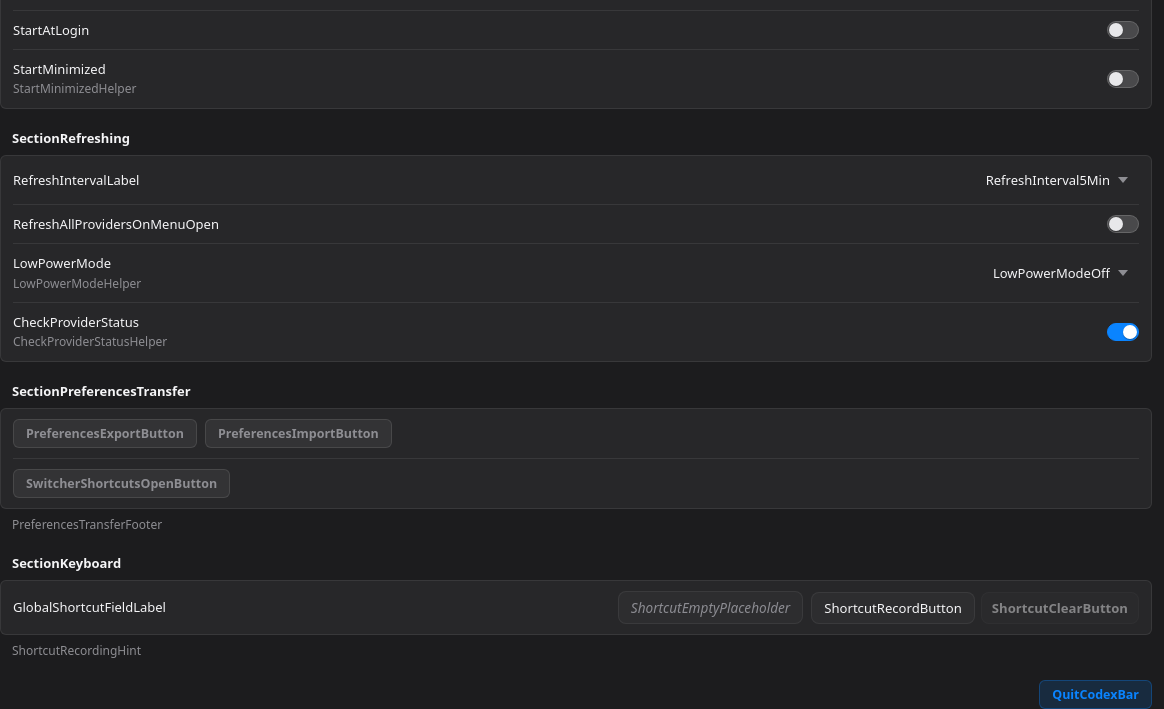
it: GeneralTab Mac grouped layout › shows the register error and does not save a shortcut that failed to register
The image size is (1164, 709).
(page scrolled)
Click the button "ShortcutRecordButton".
click(893, 608)  # box [811,592,975,624]
(page scrolled)
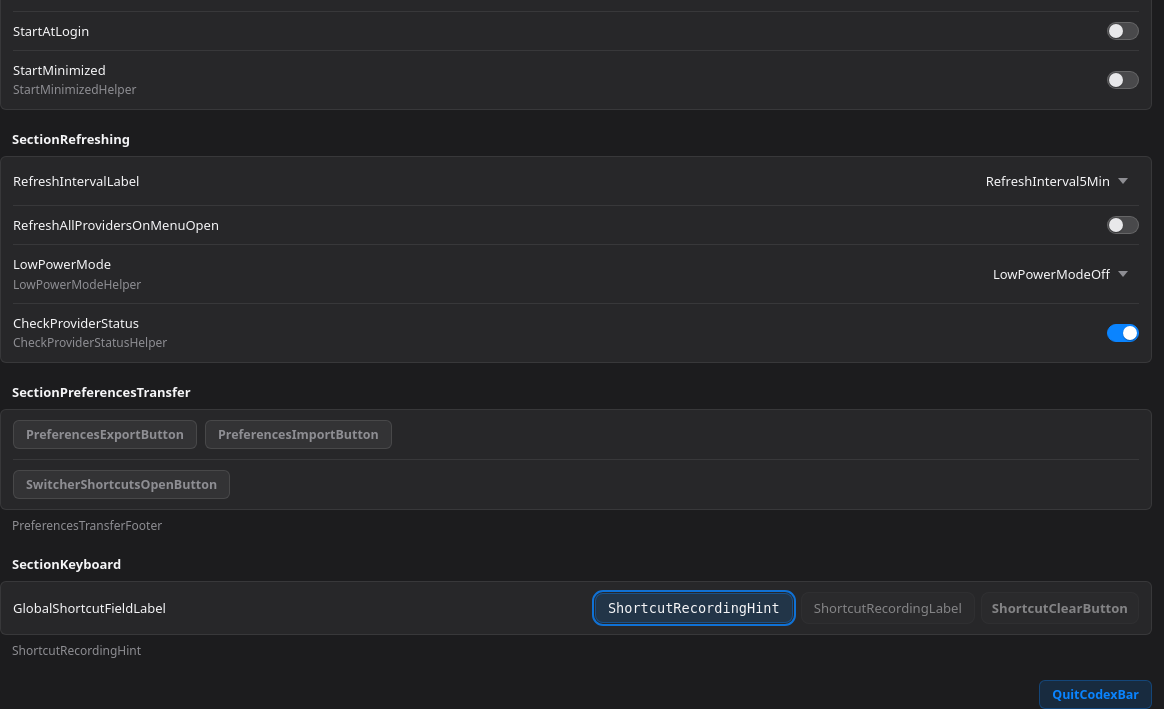
Press k
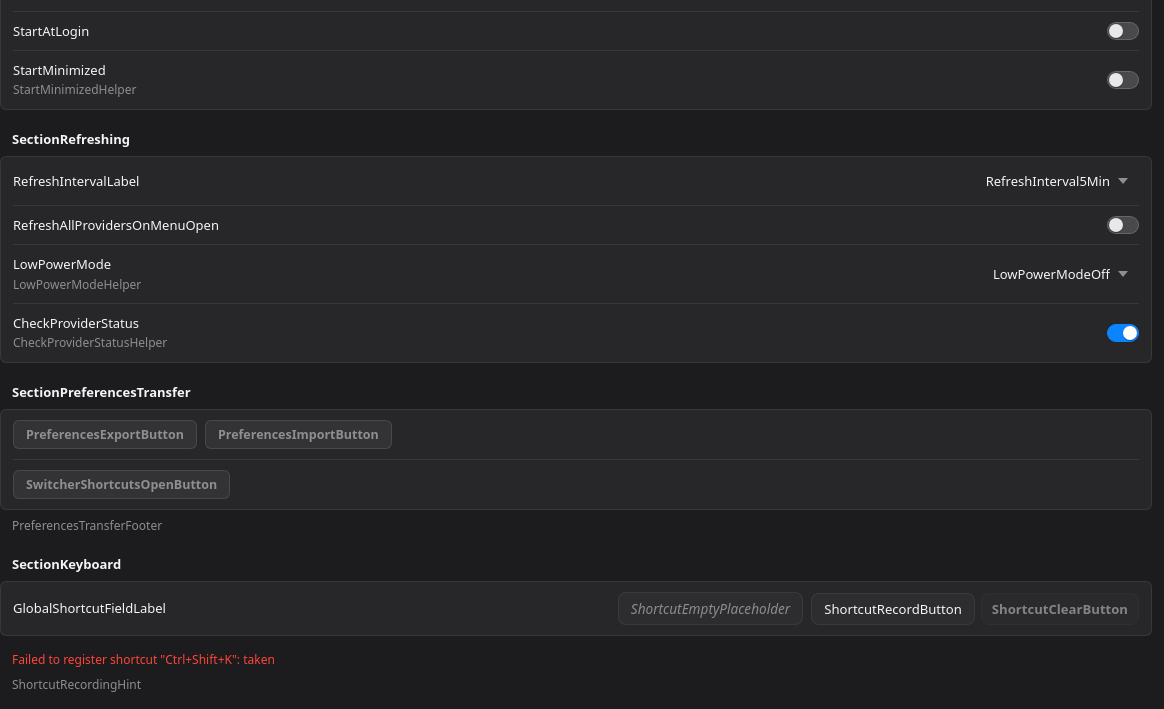
Result: the message "Failed to register shortcut \"Ctrl+Shift+K\": taken" reads "Failed to register shortcut \"Ctrl+Shift+K\": taken" at [12,651,275,668]
